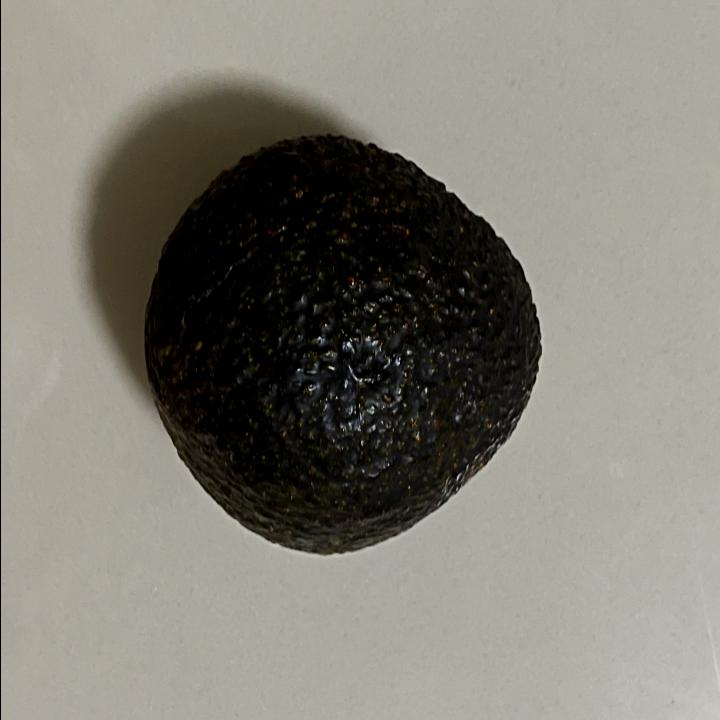Level2: (139, 126, 548, 564)
